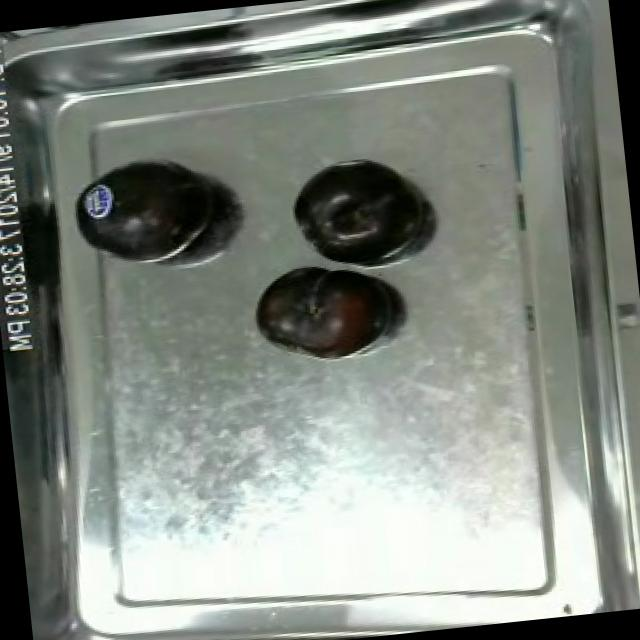Fruit: (62, 147, 228, 276), (286, 153, 429, 274), (244, 255, 396, 365), (627, 563, 640, 609)
